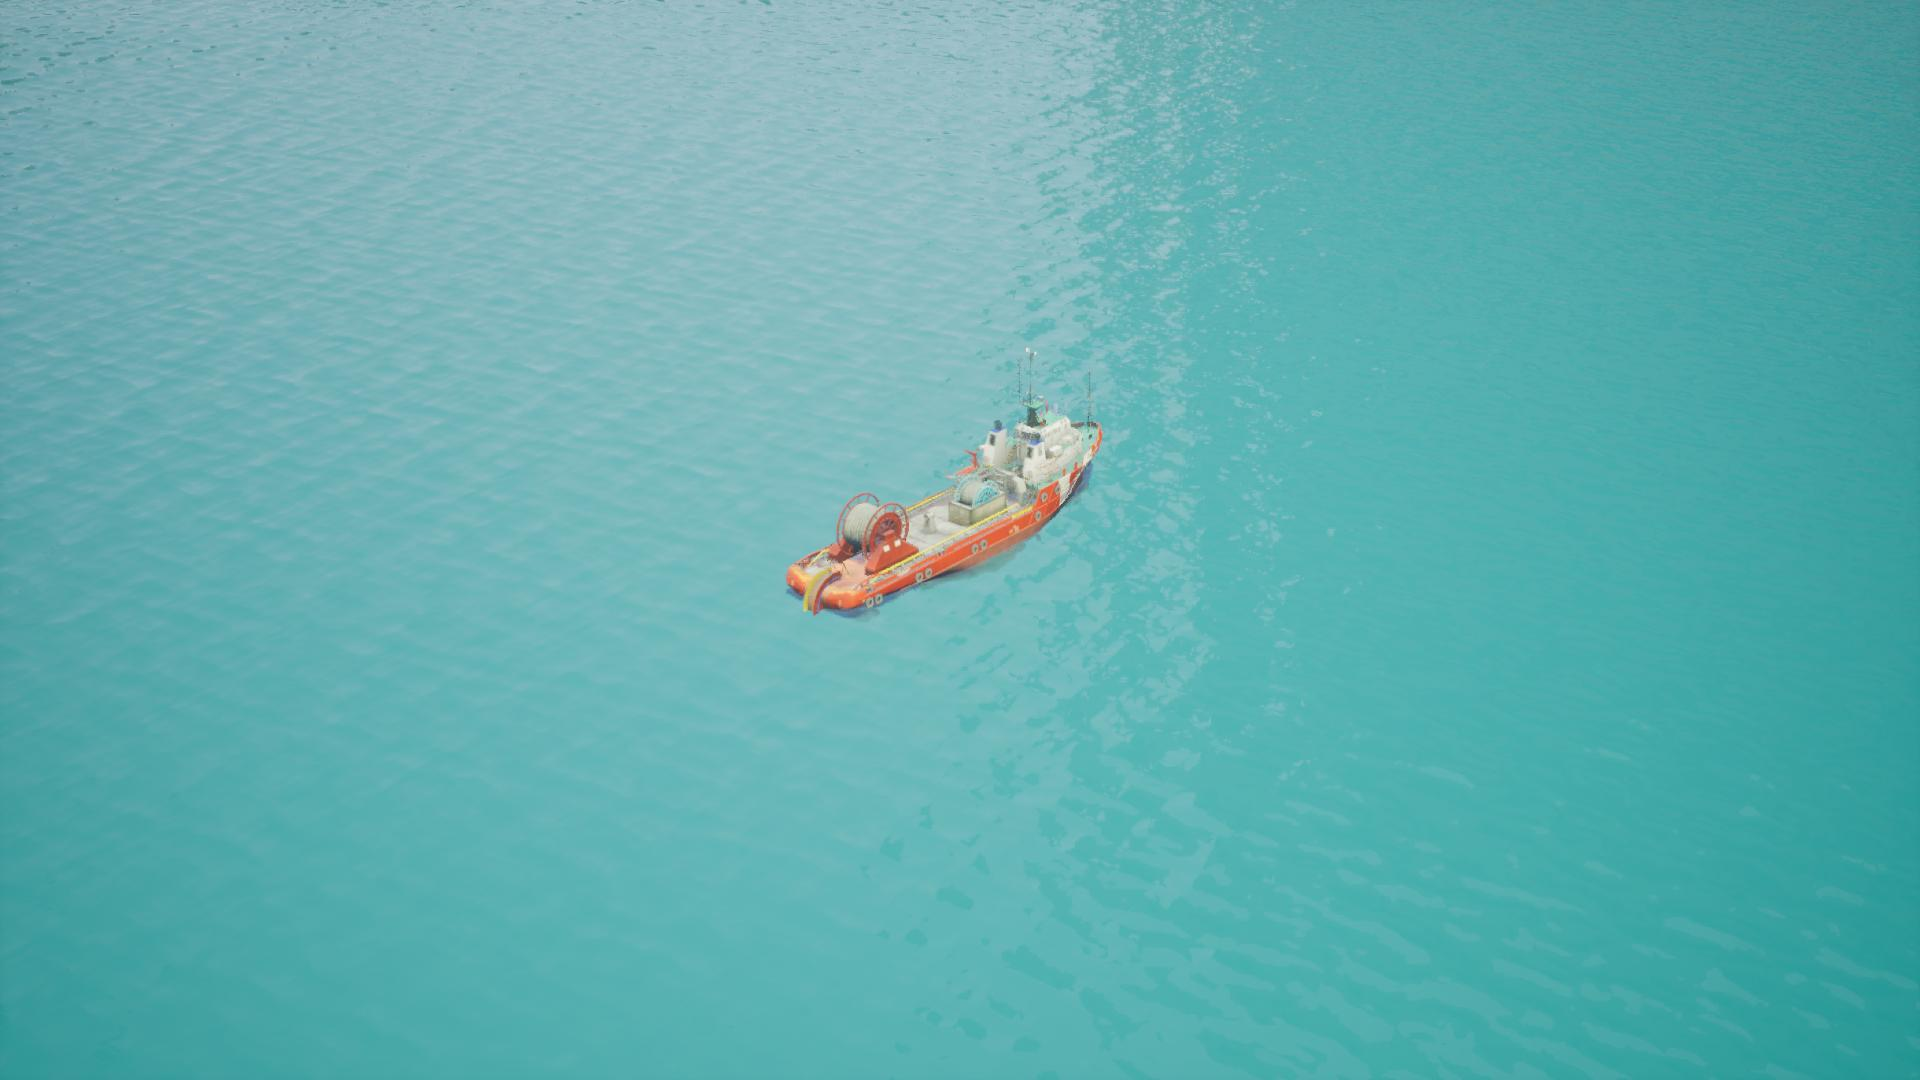Tug Boat: (757, 345, 1151, 690)
